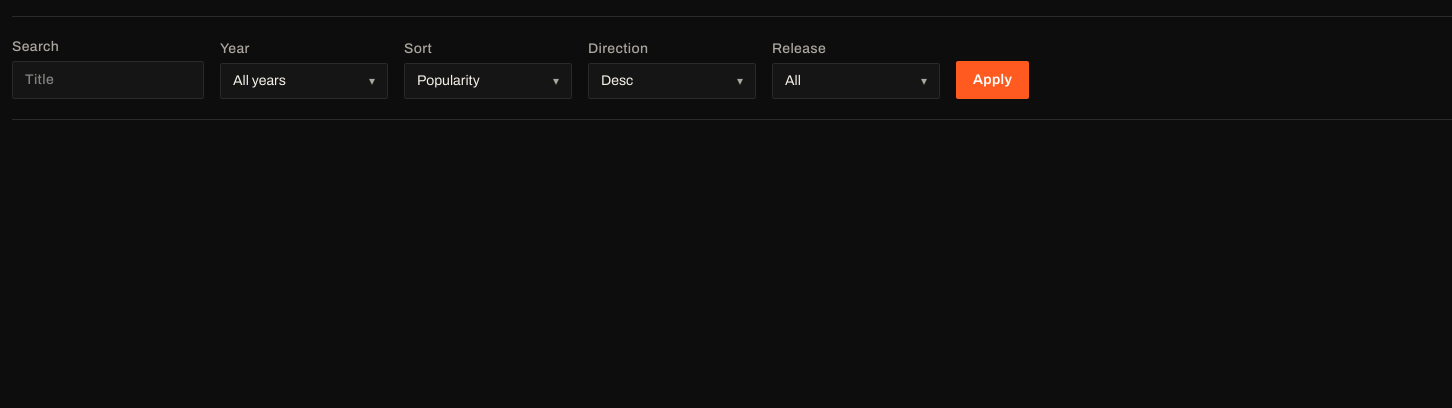
Test: GamesBrowseFilters › offers All years and the picker-style year list
This screenshot has width=1452, height=408.
Click the button "All years ▾" at x=304, y=81, box 220,63 -> 388,99
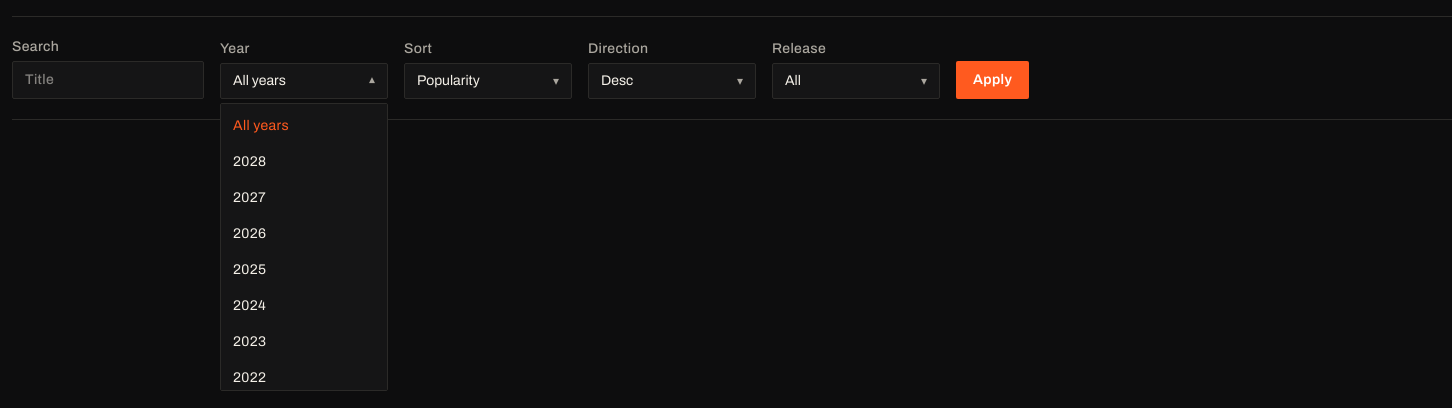
Check: the button "All years" is shown, box 221,108 -> 387,144
Check: the button "2026" is shown, box 221,216 -> 387,252
